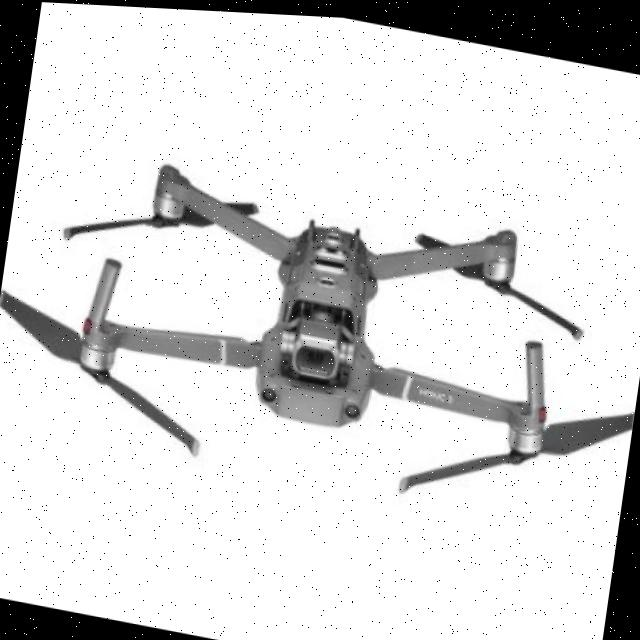drones: (0, 109, 640, 555)
